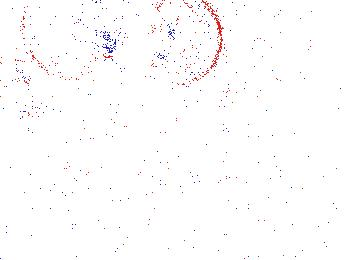moon jellyfish: (143, 1, 222, 88), (21, 1, 98, 81), (219, 89, 281, 176), (301, 76, 346, 150)
